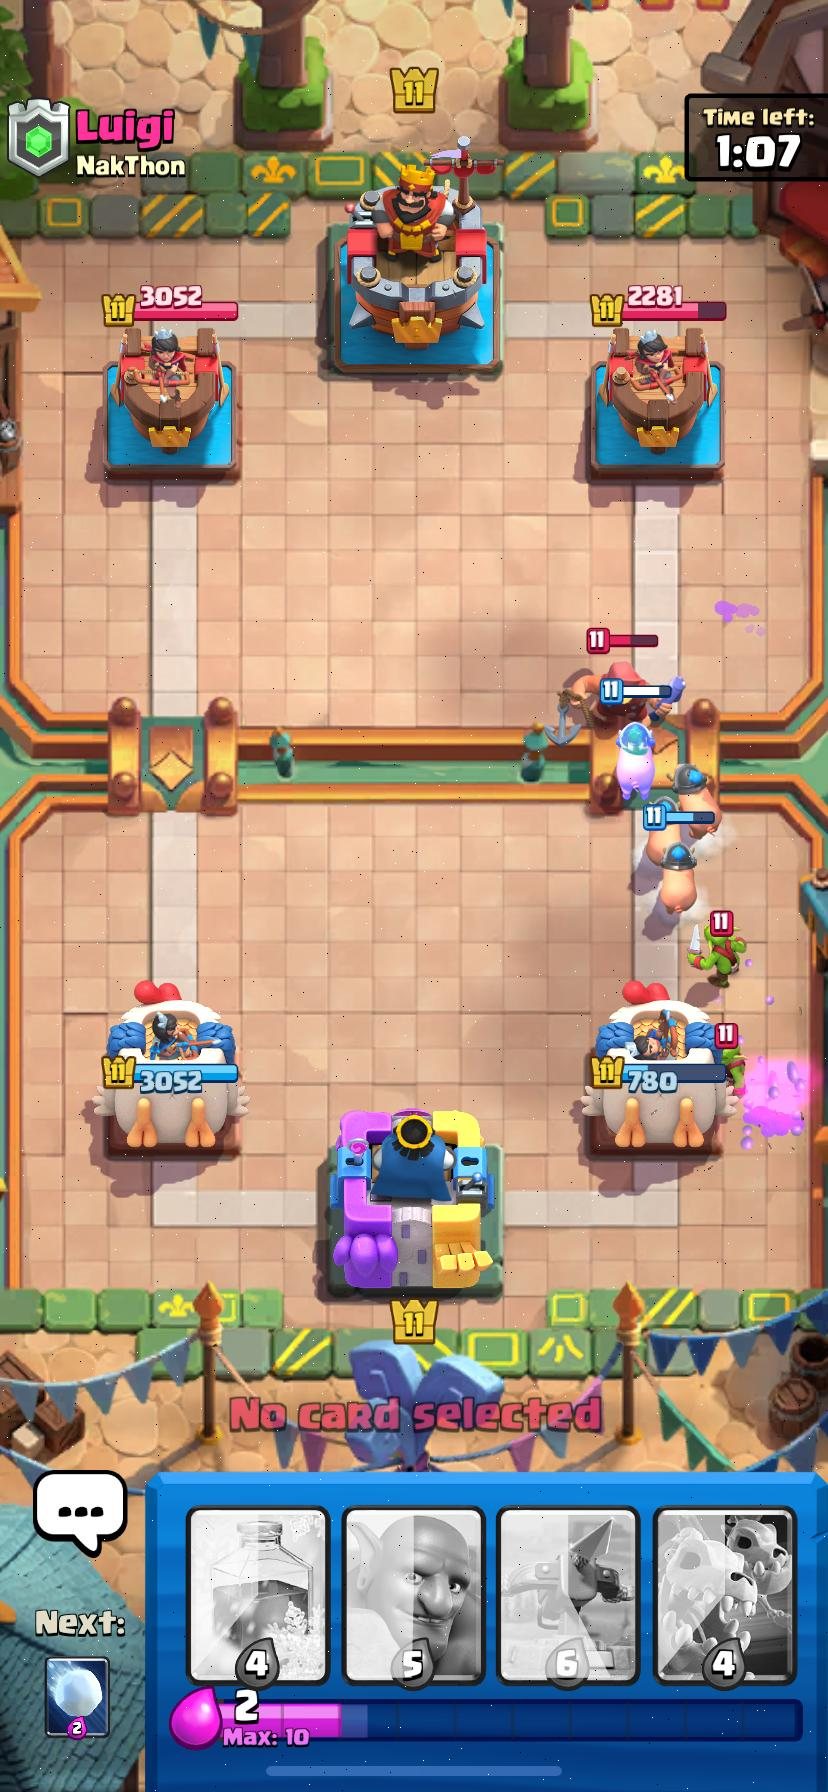EFisherman: (568, 662, 671, 728)
EGoblin: (687, 910, 745, 984), (722, 1047, 746, 1096)
EKingTower: (331, 139, 500, 374)
EnemyPrincessTower: (589, 299, 725, 479), (105, 325, 237, 477)
OHog: (616, 722, 654, 799)
ORoyalHog: (674, 763, 716, 839), (660, 843, 695, 912), (647, 795, 682, 865)
OwnKingTower: (328, 1109, 502, 1295)
OwnPrincessTower: (93, 982, 247, 1149), (583, 982, 734, 1152)
